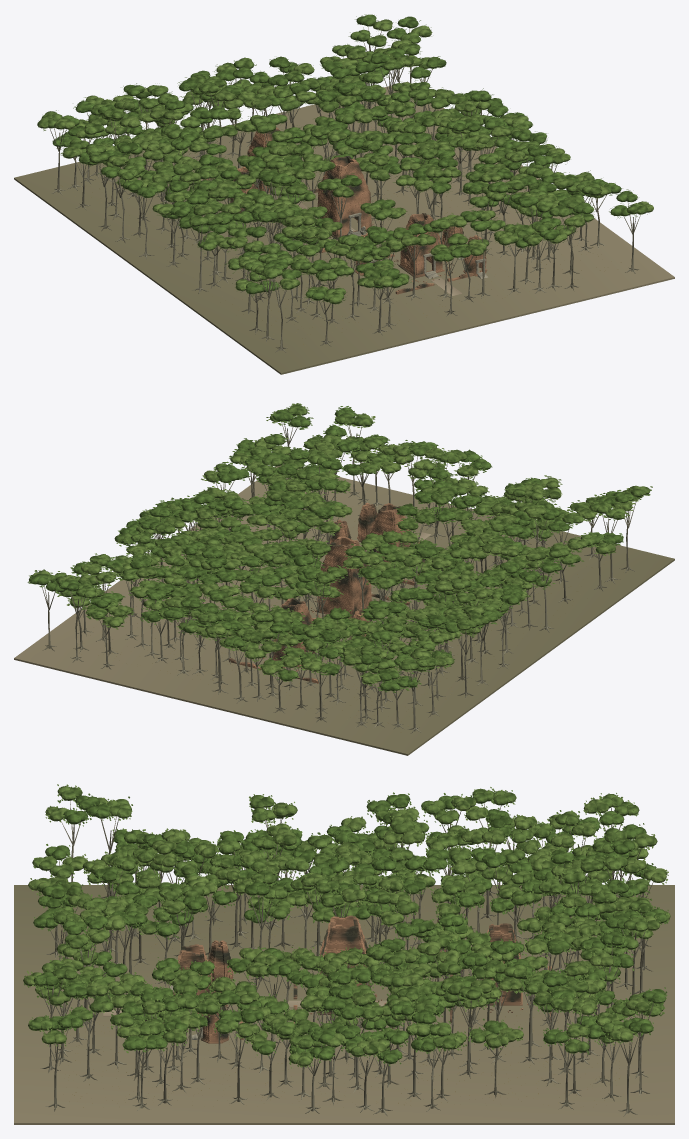
Rendered from sambor-prei-kuk-ultra.glb.
3 views of the same model, one above another, from view 1: azimuth 30°, elevation 25°; view 2: azimuth 150°, elevation 25°; view 3: azimuth 270°, elevation 25° (orthographic). The views are drawn at different scales.
Visible parts, largest first — view 1: Batched Viewer Forest soil and moss, Batched Viewer Leaf greens 0, Batched Viewer Leaf greens 2, Batched Viewer Leaf greens 1, Batched Viewer Tree bark, Batched Viewer Fired brick weathering 0, Batched Viewer Fired brick weathering 1, Batched Viewer Fired brick weathering 2, Batched Viewer Weathered sandstone; view 2: Batched Viewer Forest soil and moss, Batched Viewer Leaf greens 2, Batched Viewer Leaf greens 0, Batched Viewer Leaf greens 1, Batched Viewer Tree bark, Batched Viewer Fired brick weathering 0, Batched Viewer Fired brick weathering 1, Batched Viewer Fired brick weathering 2; view 3: Batched Viewer Forest soil and moss, Batched Viewer Leaf greens 2, Batched Viewer Leaf greens 0, Batched Viewer Leaf greens 1, Batched Viewer Tree bark, Batched Viewer Fired brick weathering 0, Batched Viewer Fired brick weathering 1, Batched Viewer Fired brick weathering 2.
Boxes of the visible parts, x1,y1,x2,y2 form: Batched Viewer Forest soil and moss: [14, 82, 674, 374]; Batched Viewer Leaf greens 0: [52, 14, 637, 301]; Batched Viewer Leaf greens 2: [54, 19, 653, 290]; Batched Viewer Leaf greens 1: [37, 27, 647, 307]; Batched Viewer Tree bark: [49, 26, 640, 352]; Batched Viewer Fired brick weathering 0: [203, 131, 487, 294]; Batched Viewer Fired brick weathering 1: [230, 127, 486, 282]; Batched Viewer Fired brick weathering 2: [231, 131, 485, 282]; Batched Viewer Weathered sandstone: [272, 187, 488, 279]; Batched Viewer Forest soil and moss: [14, 465, 674, 755]; Batched Viewer Leaf greens 2: [29, 409, 643, 686]; Batched Viewer Leaf greens 0: [27, 406, 636, 692]; Batched Viewer Leaf greens 1: [50, 403, 652, 689]; Batched Viewer Tree bark: [42, 421, 636, 733]; Batched Viewer Fired brick weathering 0: [229, 503, 426, 683]; Batched Viewer Fired brick weathering 1: [263, 504, 422, 667]; Batched Viewer Fired brick weathering 2: [263, 502, 419, 671]; Batched Viewer Forest soil and moss: [14, 885, 674, 1124]; Batched Viewer Leaf greens 2: [23, 795, 670, 1068]; Batched Viewer Leaf greens 0: [33, 792, 668, 1065]; Batched Viewer Leaf greens 1: [28, 784, 665, 1057]; Batched Viewer Tree bark: [40, 801, 653, 1116]; Batched Viewer Fired brick weathering 0: [178, 915, 551, 1043]; Batched Viewer Fired brick weathering 1: [145, 916, 523, 1042]; Batched Viewer Fired brick weathering 2: [173, 919, 535, 1041].
Size of the model in its own units: 63.95 by 13.23 by 74.
